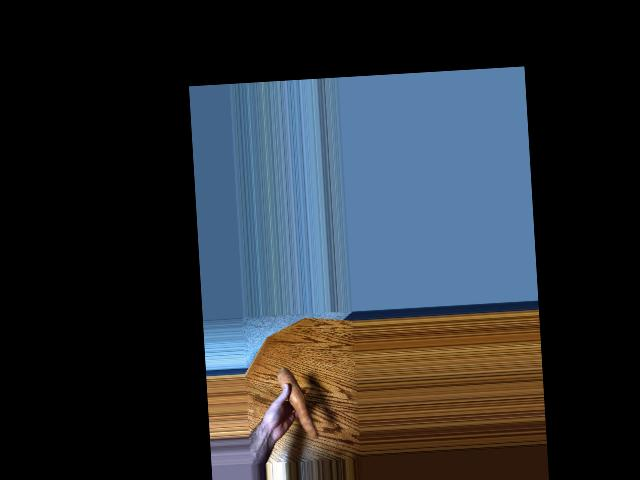sweet_potato: (285, 363, 313, 441)
